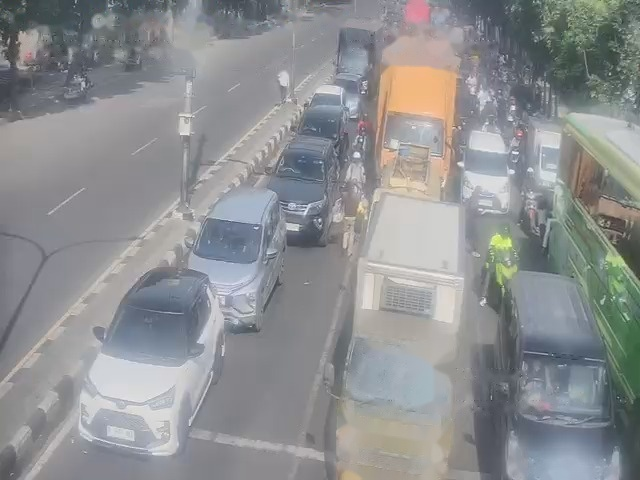Mobil: (99, 264, 214, 455), (363, 200, 463, 323), (192, 190, 281, 328), (264, 132, 342, 238), (465, 128, 510, 211)
Motor: (494, 252, 512, 287)
Truk: (376, 63, 450, 183)
